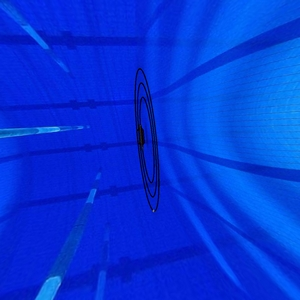circle: (129, 66, 168, 217)
submarine: (136, 125, 152, 153)
